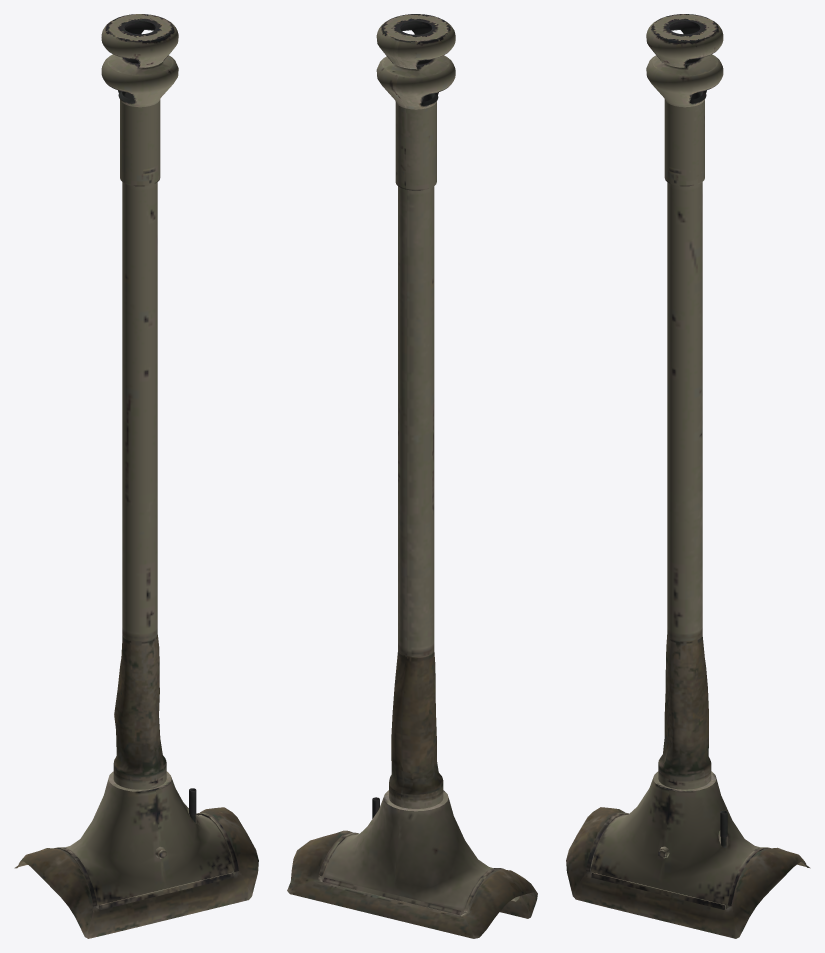
The model's file is Gun_03.glb.
3 views of the same model, side by side, from view 1: azimuth 30°, elevation 25°; view 2: azimuth 150°, elevation 25°; view 3: azimuth 330°, elevation 25° (orthographic). The views are drawn at different scales.
Visible parts, largest first — view 1: set_0_group_0; view 2: set_0_group_0; view 3: set_0_group_0.
Boxes of the visible parts, x1,y1,x2,y2 form: set_0_group_0: [14, 14, 258, 938]; set_0_group_0: [287, 14, 537, 938]; set_0_group_0: [566, 14, 810, 938].
Bounding box in the file's own units: 0.9916 × 3.99 × 0.523.
1 material, 1 textured.
